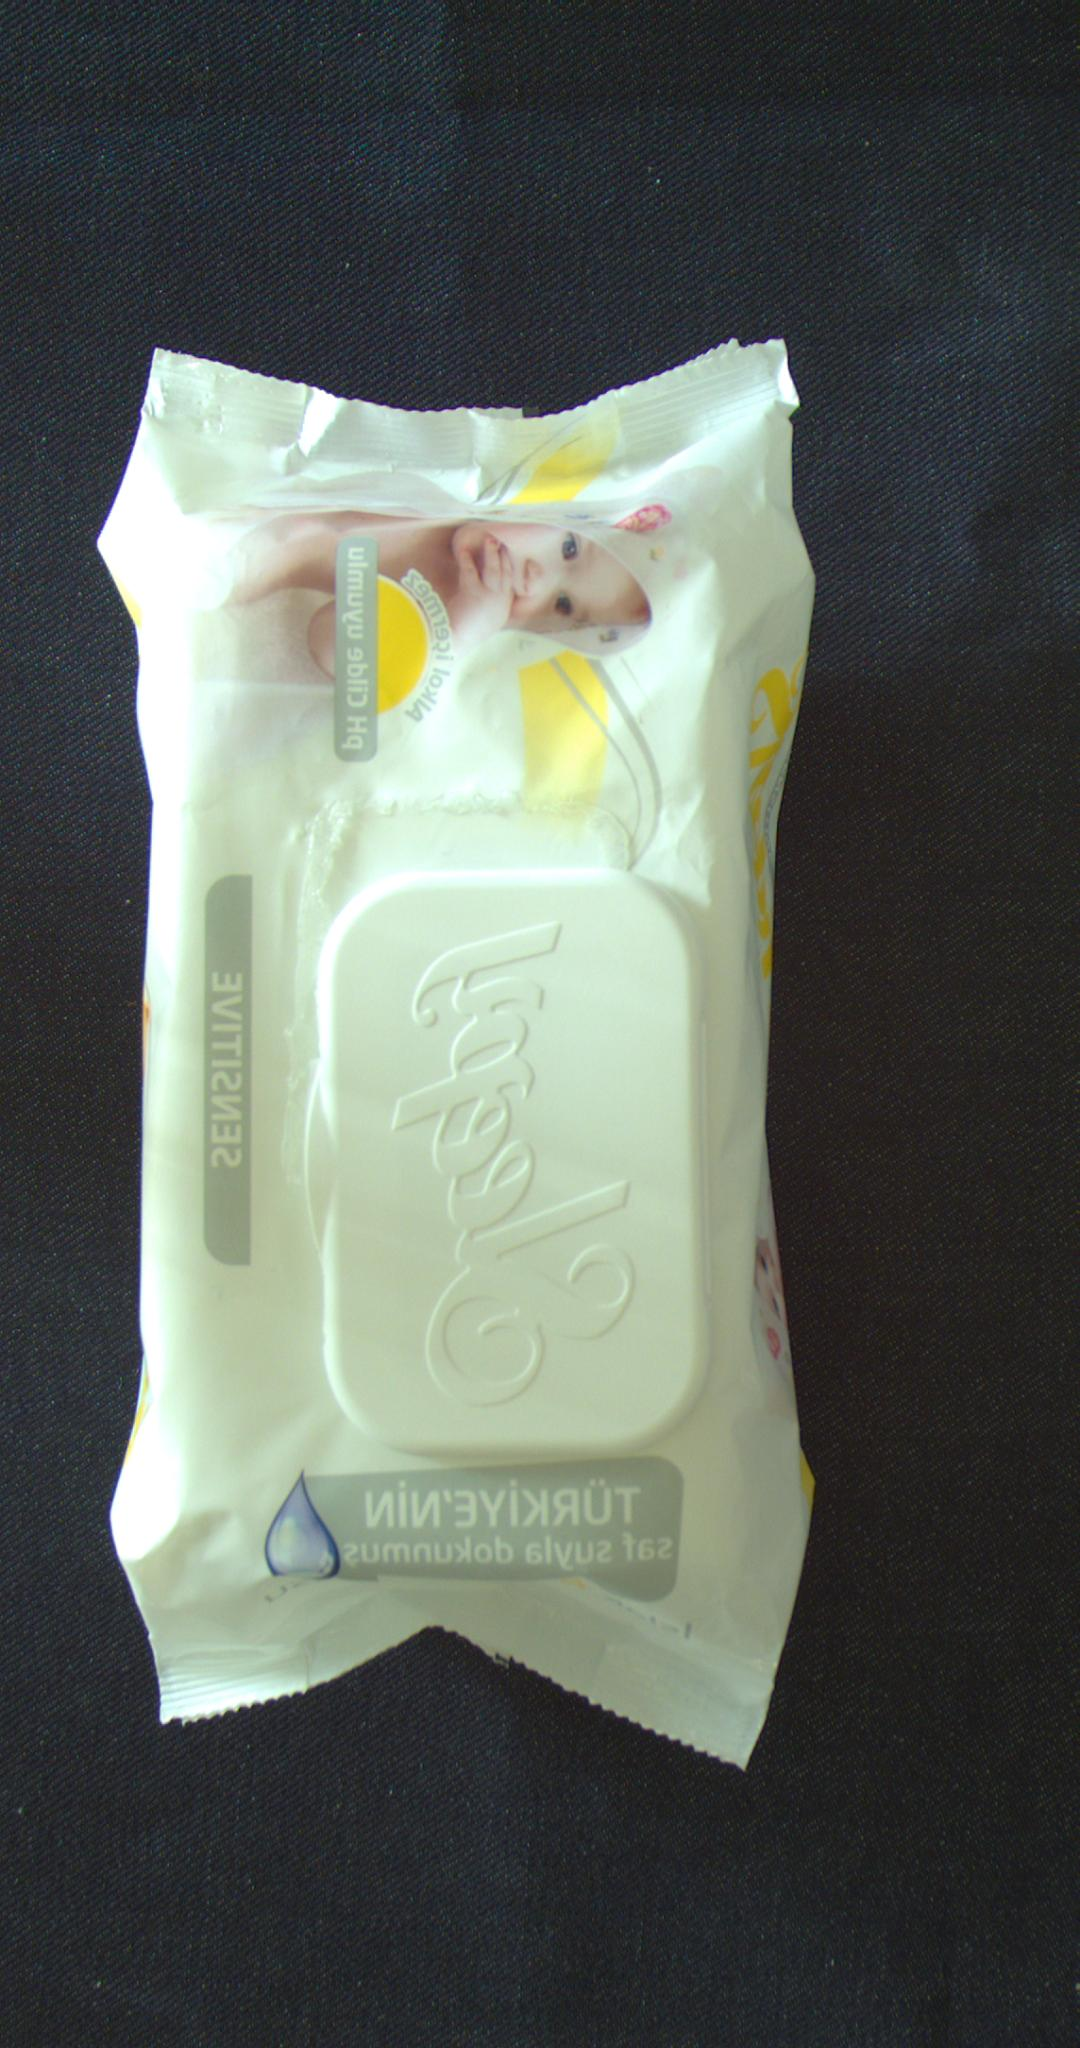kapak: (297, 875, 717, 1463)
